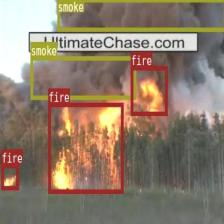fire: (48, 103, 123, 192), (131, 66, 167, 114), (1, 163, 18, 189)
smoke: (56, 0, 224, 31), (30, 56, 136, 98)
